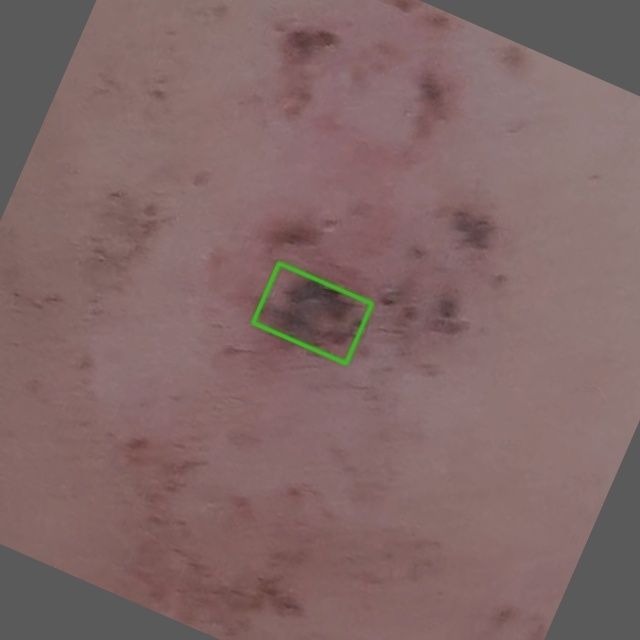Contact Dermatitis: (253, 263, 372, 363)
